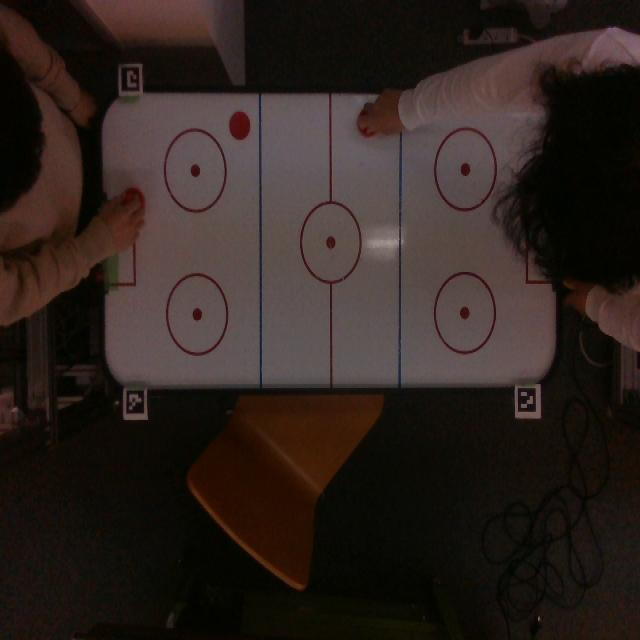puck: (228, 104, 254, 148)
